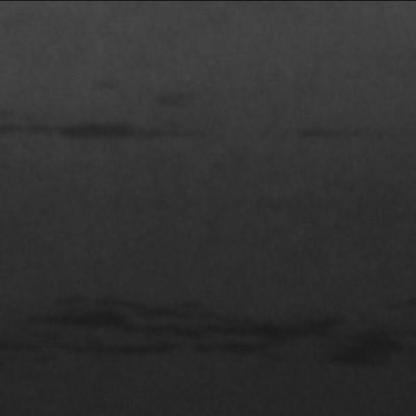inclusion: (10, 293, 416, 371), (4, 94, 223, 150), (291, 110, 391, 148)
